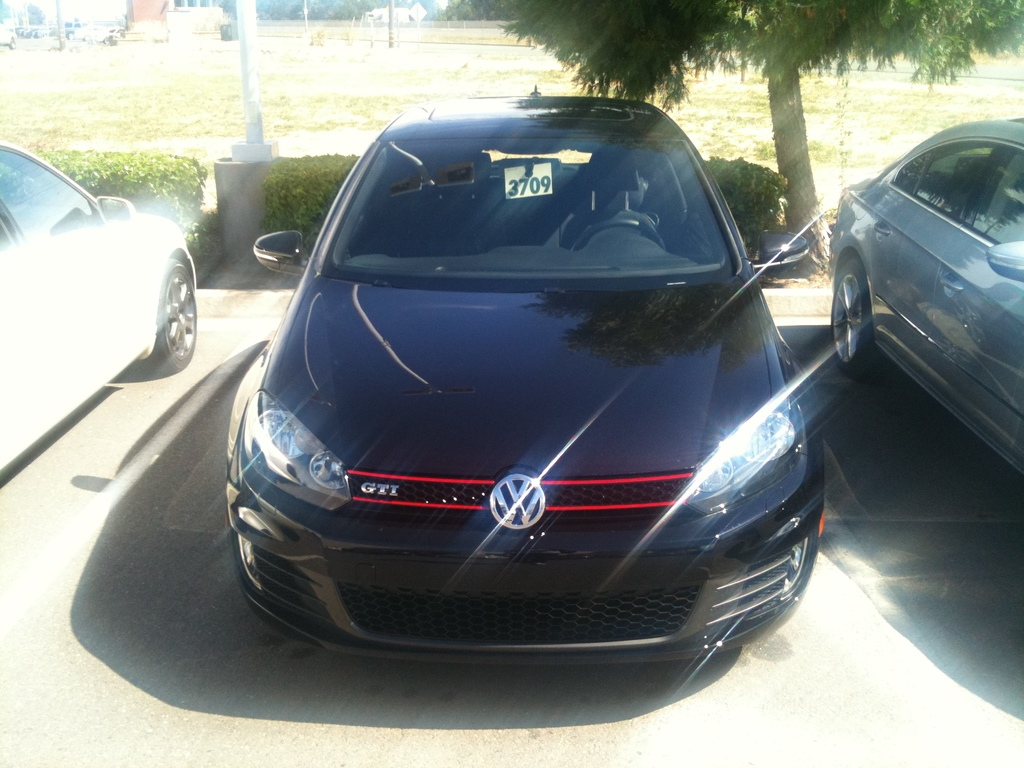Car: (208, 83, 796, 700), (826, 117, 1023, 483), (0, 136, 202, 480)
